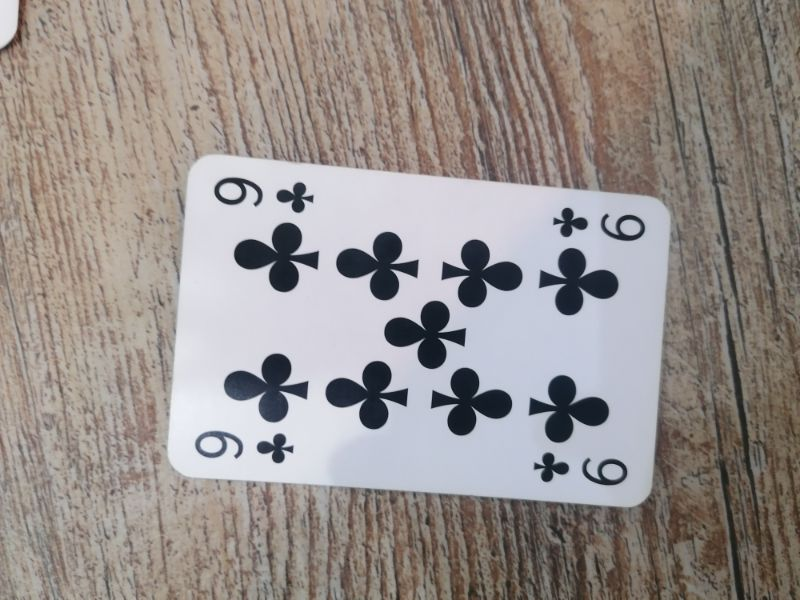9c: (201, 169, 320, 217), (189, 423, 301, 471), (545, 199, 650, 246), (524, 448, 636, 492)
